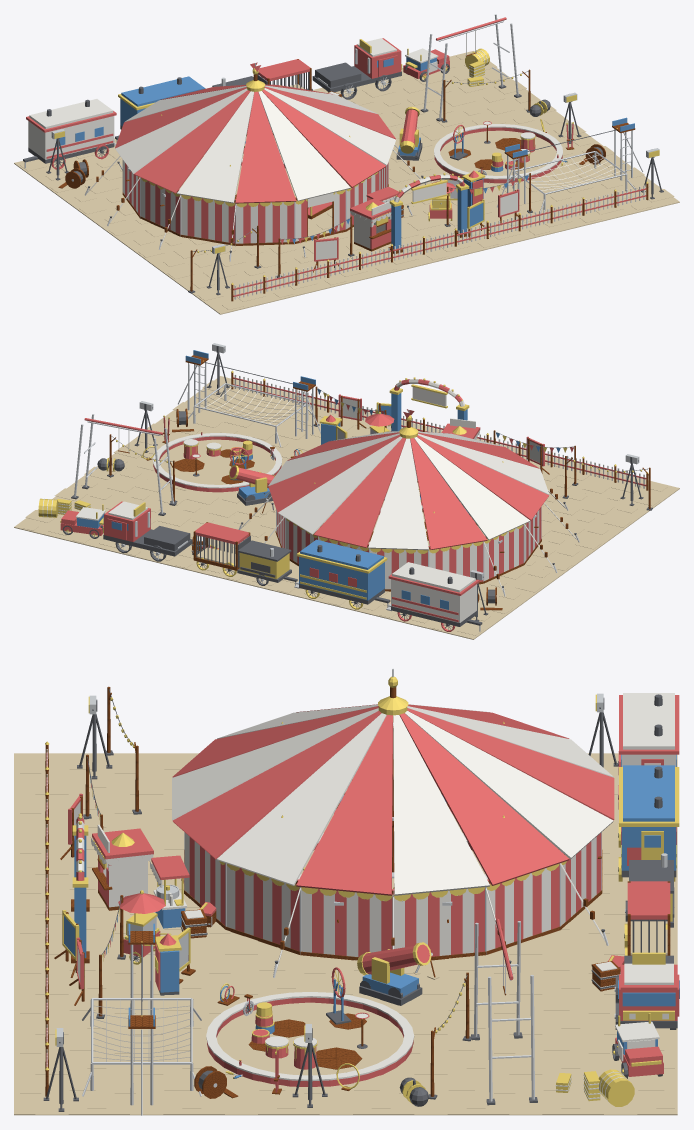
Rendered from travelling-circus-and-big-top-circus-pit-5016f84f-starter-scene__36278.glb.
3 views of the same model, one above another, from view 1: azimuth 30°, elevation 25°; view 2: azimuth 150°, elevation 25°; view 3: azimuth 270°, elevation 25° (orthographic). The views are drawn at different scales.
Parts seen in each view (by area): view 1: 091-big-top-roof-cone/big-top-roof-cone-canvas, 091-big-top-roof-cone/big-top-roof-cone-stripe, 180-living-wagon/living-wagon-canvas, 157-sawdust-ring-floor/sawdust-ring-floor-sawdust, 004-showground-ground-tile/showground-ground-tile-sawdust, 181-living-wagon-blue/living-wagon-blue-canvas, 006-showground-ground-tile/showground-ground-tile-sawdust, 005-showground-ground-tile/showground-ground-tile-sawdust, 012-showground-ground-tile/showground-ground-tile-sawdust, 054-showground-ground-tile/showground-ground-tile-sawdust, 050-showground-ground-tile/showground-ground-tile-sawdust, 061-showground-ground-tile/showground-ground-tile-sawdust (+52 smaller); view 2: 091-big-top-roof-cone/big-top-roof-cone-stripe, 091-big-top-roof-cone/big-top-roof-cone-canvas, 180-living-wagon/living-wagon-canvas, 181-living-wagon-blue/living-wagon-blue-canvas, 157-sawdust-ring-floor/sawdust-ring-floor-sawdust, 005-showground-ground-tile/showground-ground-tile-sawdust, 004-showground-ground-tile/showground-ground-tile-sawdust, 044-showground-ground-tile/showground-ground-tile-sawdust, 006-showground-ground-tile/showground-ground-tile-sawdust, 184-circus-tractor-unit/circus-tractor-unit-charcoal, 058-showground-ground-tile/showground-ground-tile-sawdust, 002-showground-ground-tile/showground-ground-tile-sawdust (+50 smaller); view 3: 091-big-top-roof-cone/big-top-roof-cone-stripe, 091-big-top-roof-cone/big-top-roof-cone-canvas, 157-sawdust-ring-floor/sawdust-ring-floor-sawdust, 181-living-wagon-blue/living-wagon-blue-canvas, 039-showground-ground-tile/showground-ground-tile-sawdust, 061-showground-ground-tile/showground-ground-tile-sawdust, 062-showground-ground-tile/showground-ground-tile-sawdust, 050-showground-ground-tile/showground-ground-tile-sawdust, 006-showground-ground-tile/showground-ground-tile-sawdust, 057-showground-ground-tile/showground-ground-tile-sawdust, 048-showground-ground-tile/showground-ground-tile-sawdust, 054-showground-ground-tile/showground-ground-tile-sawdust (+72 smaller).
Boxes of the visible parts, x1=… form: 091-big-top-roof-cone/big-top-roof-cone-canvas: x1=115, y1=85, x2=395, y2=203; 091-big-top-roof-cone/big-top-roof-cone-stripe: x1=115, y1=84, x2=395, y2=203; 180-living-wagon/living-wagon-canvas: x1=28, y1=99, x2=114, y2=159; 157-sawdust-ring-floor/sawdust-ring-floor-sawdust: x1=440, y1=130, x2=556, y2=175; 004-showground-ground-tile/showground-ground-tile-sawdust: x1=132, y1=237, x2=211, y2=270; 181-living-wagon-blue/living-wagon-blue-canvas: x1=120, y1=76, x2=205, y2=126; 006-showground-ground-tile/showground-ground-tile-sawdust: x1=192, y1=280, x2=271, y2=314; 005-showground-ground-tile/showground-ground-tile-sawdust: x1=161, y1=258, x2=241, y2=291; 012-showground-ground-tile/showground-ground-tile-sawdust: x1=213, y1=246, x2=292, y2=279; 054-showground-ground-tile/showground-ground-tile-sawdust: x1=520, y1=171, x2=598, y2=204; 050-showground-ground-tile/showground-ground-tile-sawdust: x1=401, y1=85, x2=480, y2=118; 061-showground-ground-tile/showground-ground-tile-sawdust: x1=570, y1=159, x2=649, y2=192; 091-big-top-roof-cone/big-top-roof-cone-stripe: x1=268, y1=431, x2=548, y2=549; 091-big-top-roof-cone/big-top-roof-cone-canvas: x1=268, y1=431, x2=549, y2=550; 180-living-wagon/living-wagon-canvas: x1=391, y1=562, x2=476, y2=622; 181-living-wagon-blue/living-wagon-blue-canvas: x1=299, y1=539, x2=384, y2=600; 157-sawdust-ring-floor/sawdust-ring-floor-sawdust: x1=159, y1=439, x2=275, y2=484; 005-showground-ground-tile/showground-ground-tile-sawdust: x1=570, y1=497, x2=649, y2=531; 004-showground-ground-tile/showground-ground-tile-sawdust: x1=542, y1=519, x2=620, y2=552; 044-showground-ground-tile/showground-ground-tile-sawdust: x1=175, y1=491, x2=245, y2=520; 006-showground-ground-tile/showground-ground-tile-sawdust: x1=600, y1=476, x2=679, y2=508; 184-circus-tractor-unit/circus-tractor-unit-charcoal: x1=103, y1=526, x2=192, y2=556; 058-showground-ground-tile/showground-ground-tile-sawdust: x1=73, y1=464, x2=152, y2=496; 002-showground-ground-tile/showground-ground-tile-sawdust: x1=483, y1=565, x2=561, y2=596; 091-big-top-roof-cone/big-top-roof-cone-stripe: x1=172, y1=704, x2=614, y2=895; 091-big-top-roof-cone/big-top-roof-cone-canvas: x1=172, y1=704, x2=613, y2=895; 157-sawdust-ring-floor/sawdust-ring-floor-sawdust: x1=216, y1=1002, x2=403, y2=1075; 181-living-wagon-blue/living-wagon-blue-canvas: x1=621, y1=765, x2=676, y2=870; 039-showground-ground-tile/showground-ground-tile-sawdust: x1=203, y1=953, x2=298, y2=994; 061-showground-ground-tile/showground-ground-tile-sawdust: x1=108, y1=1074, x2=203, y2=1115; 062-showground-ground-tile/showground-ground-tile-sawdust: x1=14, y1=1074, x2=108, y2=1115; 050-showground-ground-tile/showground-ground-tile-sawdust: x1=488, y1=1033, x2=582, y2=1074; 006-showground-ground-tile/showground-ground-tile-sawdust: x1=14, y1=753, x2=108, y2=794; 057-showground-ground-tile/showground-ground-tile-sawdust: x1=488, y1=1074, x2=582, y2=1115; 048-showground-ground-tile/showground-ground-tile-sawdust: x1=14, y1=993, x2=108, y2=1034; 054-showground-ground-tile/showground-ground-tile-sawdust: x1=108, y1=1033, x2=203, y2=1074.
Size of the model in its own units: 36.38 by 9.58 by 28.1.
Materials: 8 (1 with a texture image).
